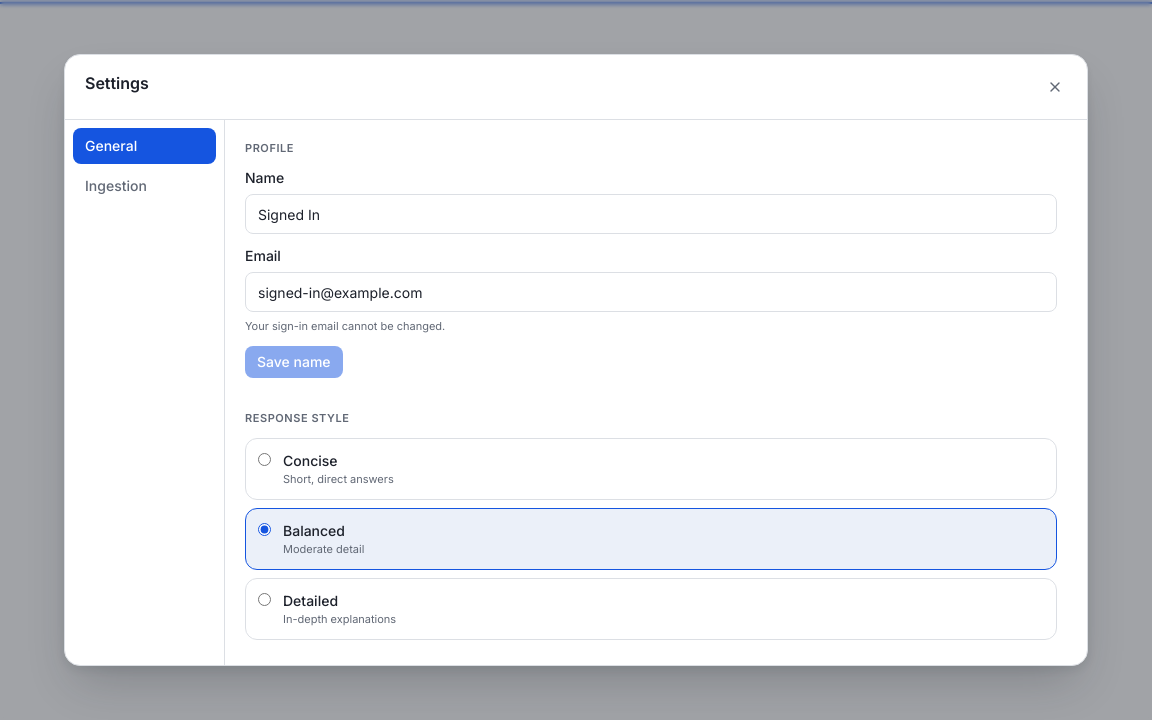
SettingsDialog Ingestion section job history › stays collapsed on load and does not fetch job history until opened
Click the tab "Ingestion": [144, 186] box [73,168,216,204]
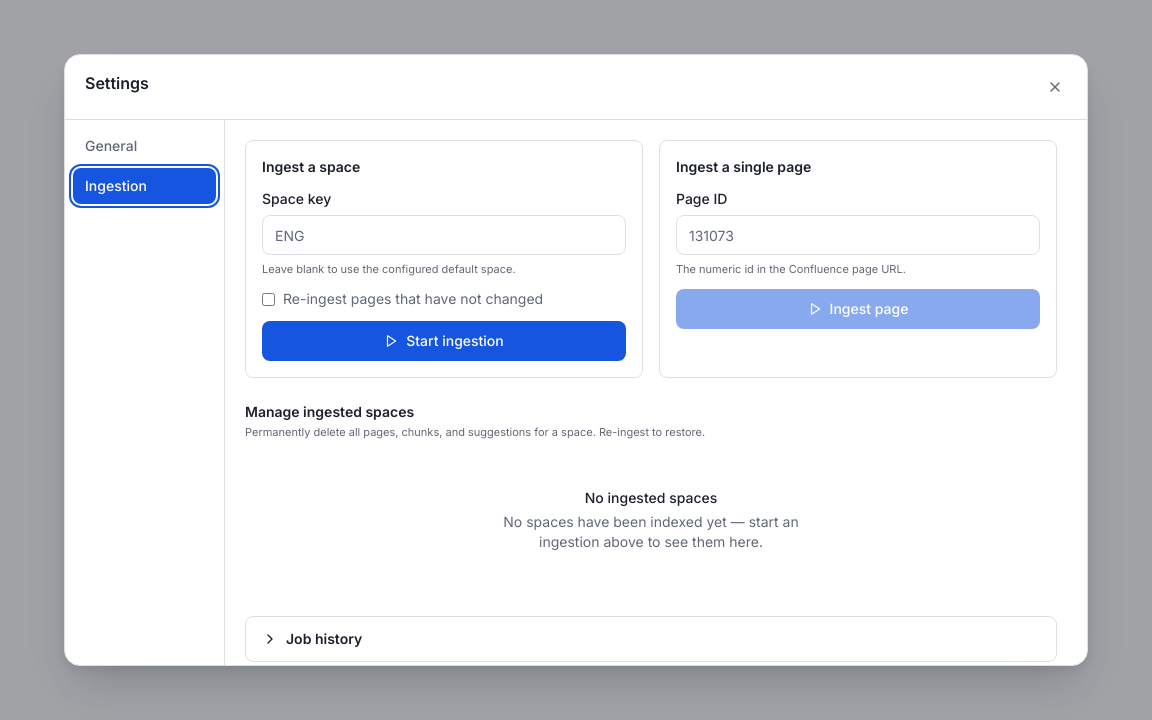
Expected: the heading "Ingest a space" is shown, [262,158,360,175]
Click the button "Job history": [324, 638] box [254,621,1048,657]
(page scrolled)
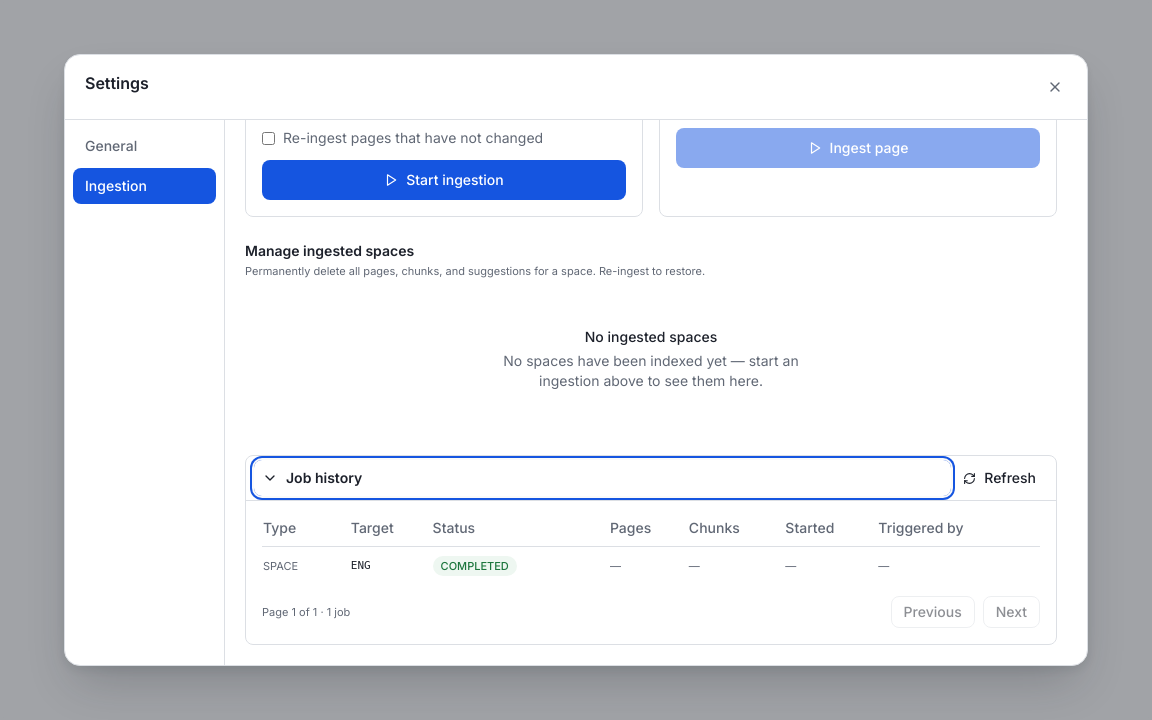
Expected: the text "ENG" is shown, [350,547,432,584]
